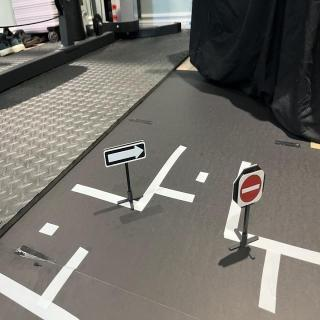sign_noentry: (237, 168, 265, 209)
sign_oneway_right: (104, 140, 148, 170)
